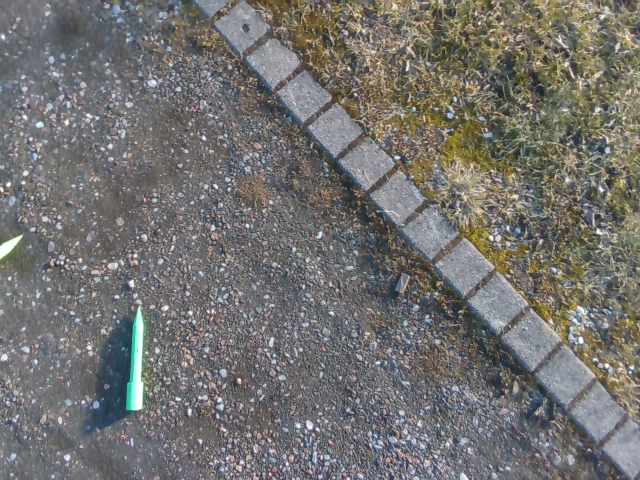Probe: (120, 301, 148, 418)
